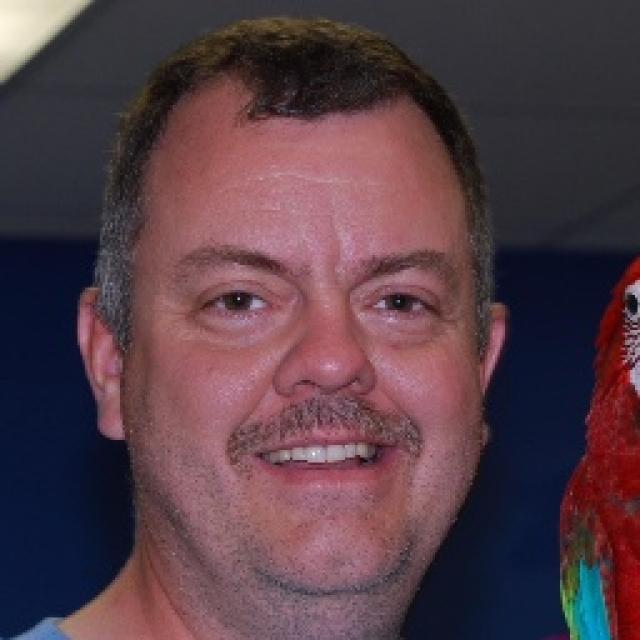earlobe: (77, 286, 126, 442), (476, 299, 507, 447)
